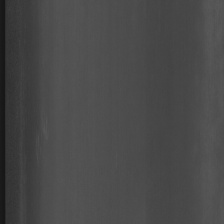silk_spot: (29, 90, 52, 169)
